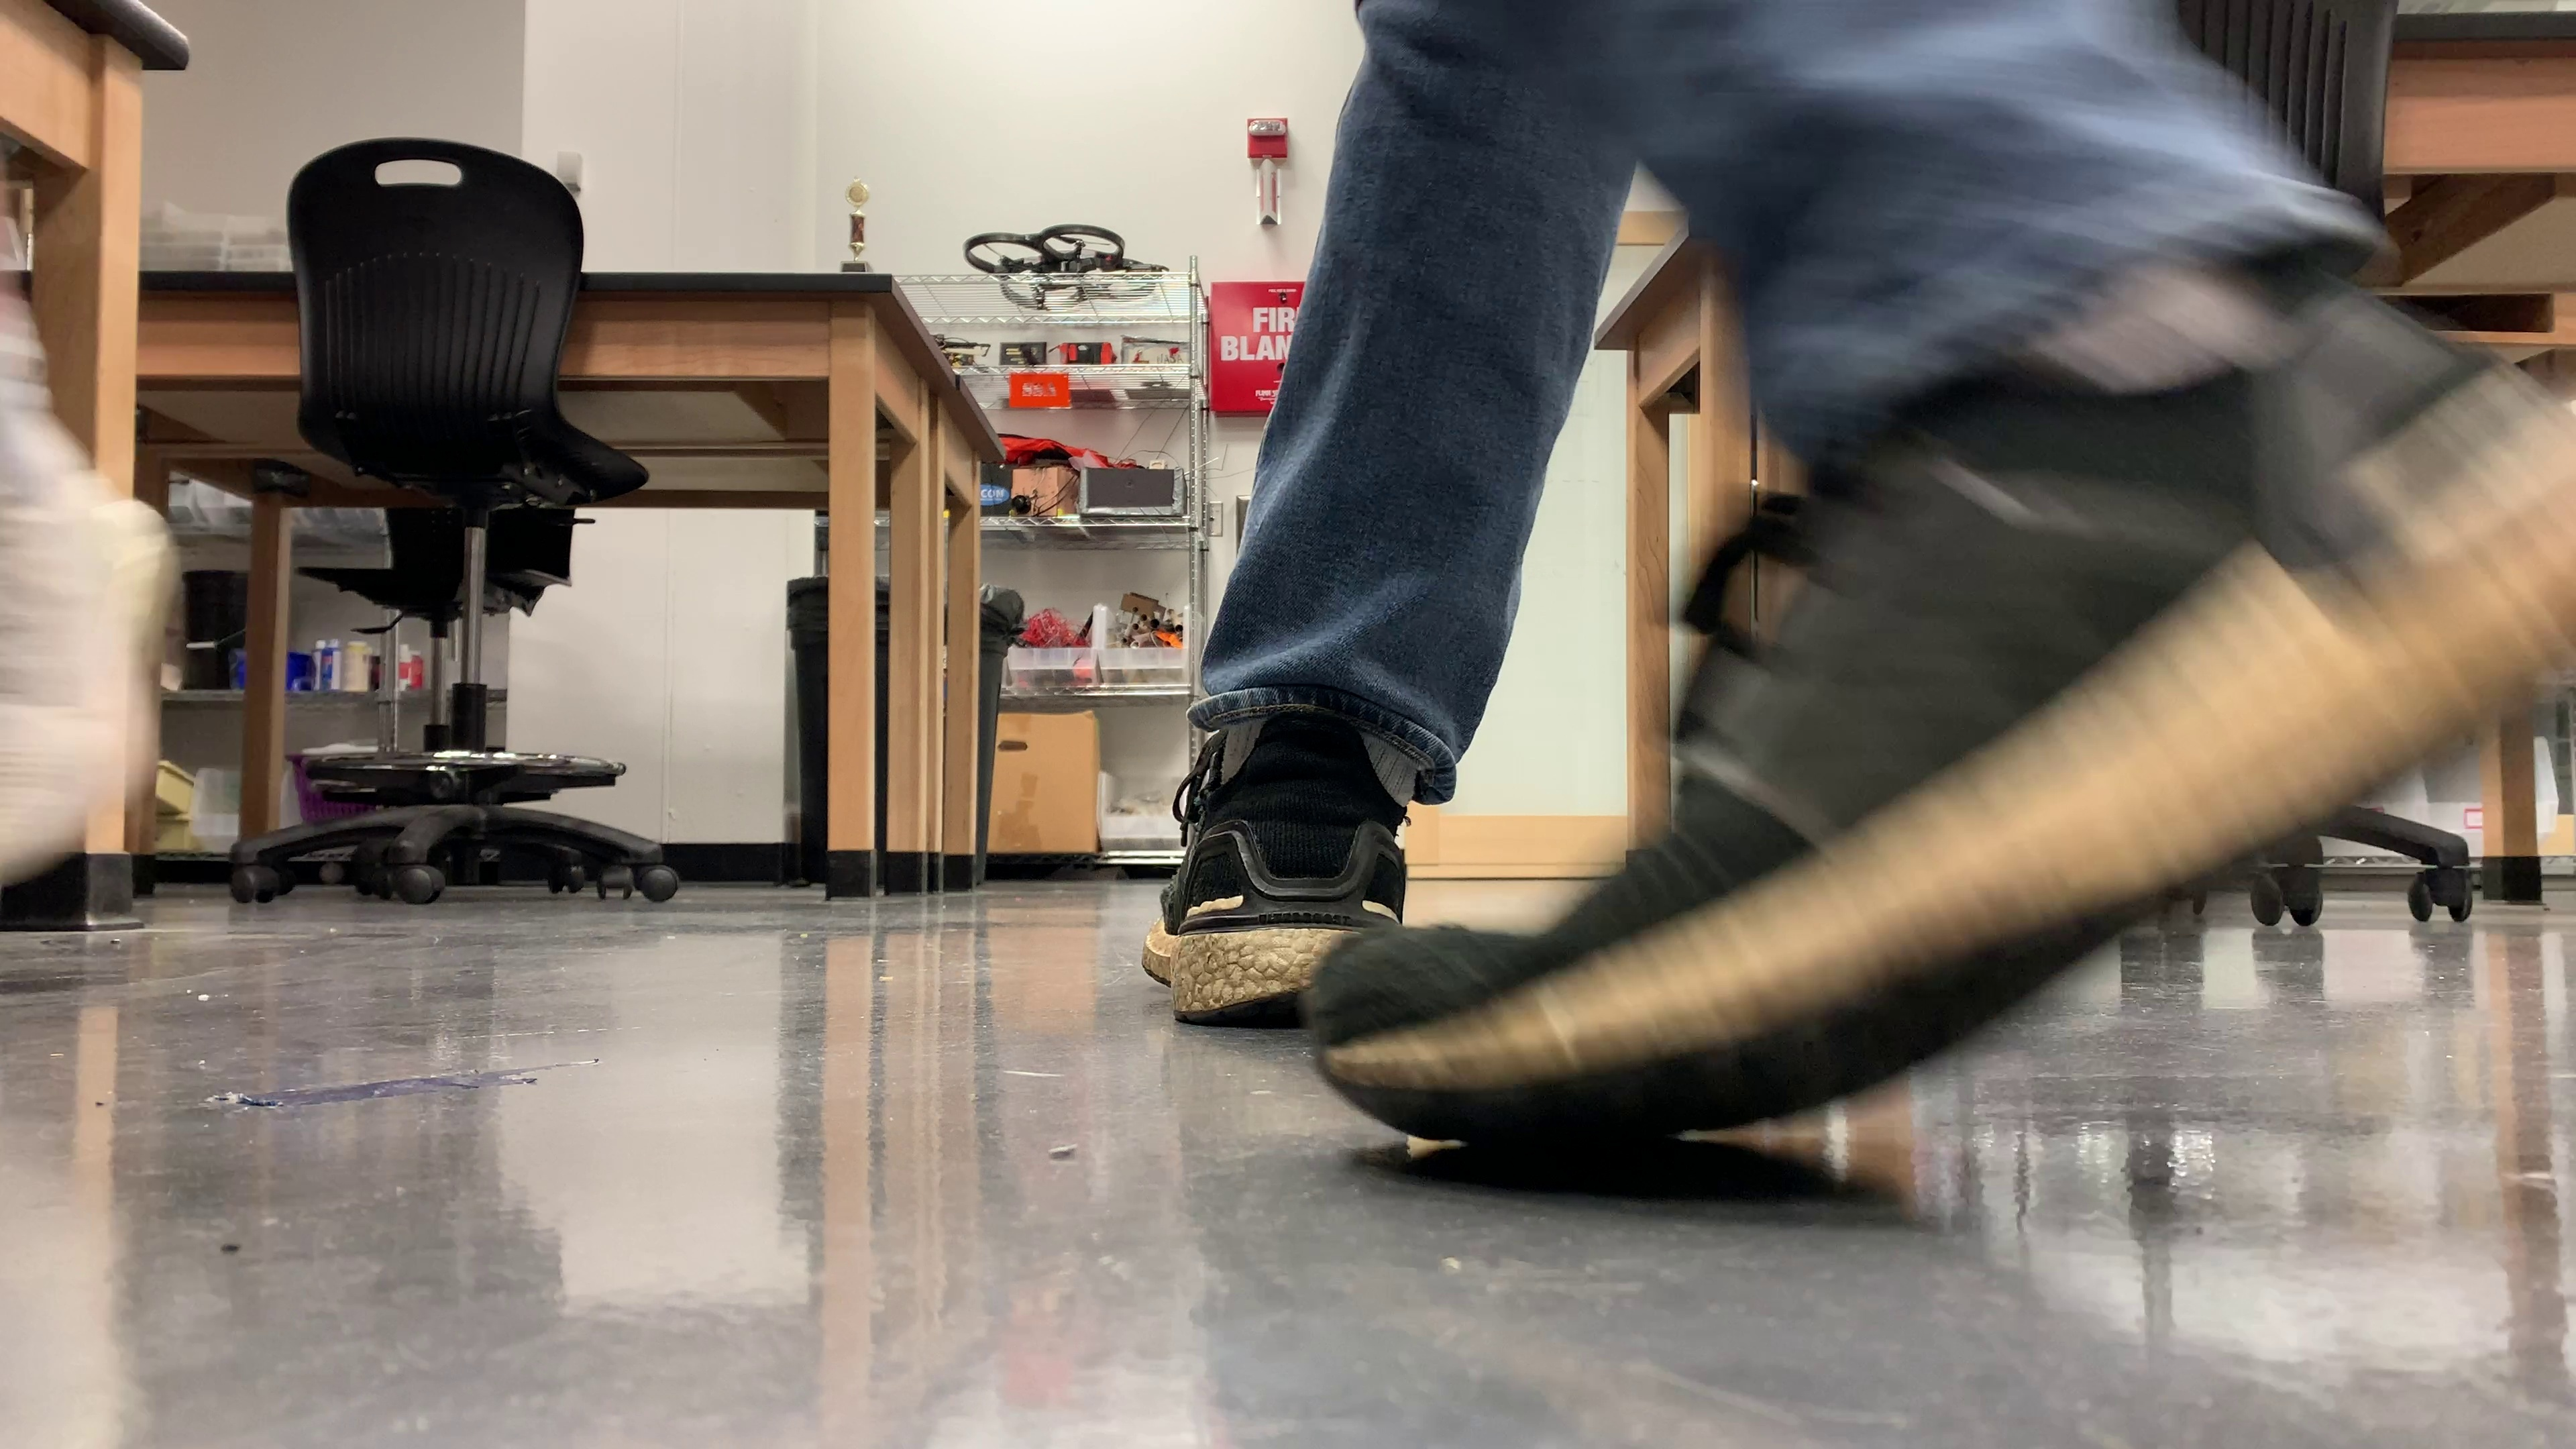shoe: (1143, 709, 1407, 1019)
